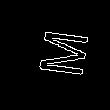M_W: (23, 29, 87, 81)
